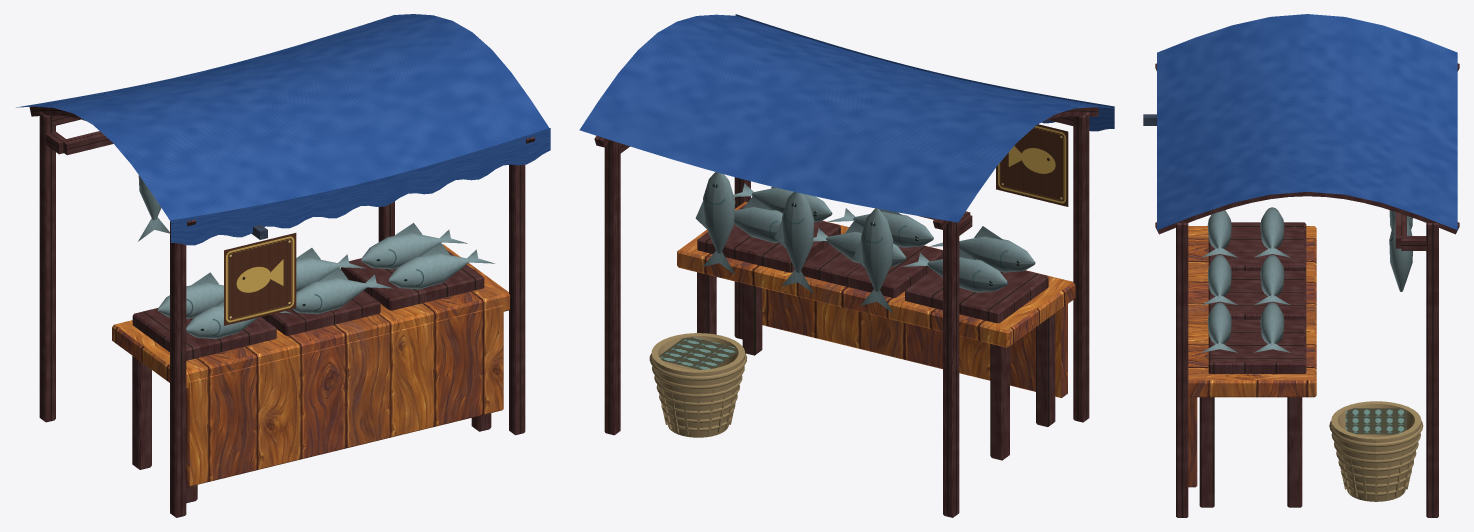
Rendered from Fish_Stall.fbx.
3 views of the same model, side by side, from view 1: azimuth 30°, elevation 25°; view 2: azimuth 150°, elevation 25°; view 3: azimuth 270°, elevation 25° (orthographic). The views are drawn at different scales.
Visible parts, largest first — view 1: Draped stitched awning.004, Counter front.004, Scalloped canvas hem.004, Counter top.004, Painted shop sign.004, Canopy post.017, Canopy post.016, Canopy post.018, Display tray.014, Display tray.012, Display tray.013, Counter leg.017 (+7 smaller); view 2: Draped stitched awning.004, Counter front.004, Counter top.004, Canopy post.016, Canopy post.017, Canopy post.019, Painted shop sign.004, Woven basket body.004, Display tray.012, Display tray.013, Display tray.014, Counter leg.017 (+15 smaller); view 3: Draped stitched awning.004, Counter top.004, Display tray.014, Woven basket body.004, Canopy post.018, Canopy post.019, Display tray.012, Display tray.013, Counter leg.018, Counter leg.019, Basket goods.001, Fish skin and gills.010 (+9 smaller).
Boxes of the visible parts, x1,y1,x2,y2 form: Draped stitched awning.004: (16, 14, 549, 221); Counter front.004: (186, 305, 503, 486); Scalloped canvas hem.004: (171, 128, 550, 245); Counter top.004: (112, 244, 509, 388); Painted shop sign.004: (224, 233, 296, 325); Canopy post.017: (39, 111, 55, 422); Canopy post.016: (170, 221, 186, 517); Canopy post.018: (509, 164, 525, 435); Display tray.014: (340, 250, 484, 310); Display tray.012: (132, 308, 276, 360); Display tray.013: (261, 279, 380, 335); Counter leg.017: (132, 356, 151, 469); Draped stitched awning.004: (579, 14, 1113, 222); Counter front.004: (762, 288, 1067, 397); Counter top.004: (677, 202, 1075, 347); Canopy post.016: (1073, 112, 1089, 422); Canopy post.017: (943, 221, 959, 517); Canopy post.019: (604, 140, 620, 435); Painted shop sign.004: (996, 124, 1068, 206); Woven basket body.004: (651, 333, 744, 437); Display tray.012: (905, 270, 1048, 323); Display tray.013: (801, 233, 942, 297); Display tray.014: (697, 204, 840, 272); Counter leg.017: (990, 344, 1009, 460); Draped stitched awning.004: (1157, 14, 1457, 230); Counter top.004: (1188, 226, 1316, 397); Display tray.014: (1208, 319, 1306, 373); Woven basket body.004: (1331, 401, 1421, 501); Canopy post.018: (1176, 223, 1188, 517); Canopy post.019: (1426, 223, 1438, 517); Display tray.012: (1208, 222, 1306, 272); Display tray.013: (1208, 271, 1306, 320); Counter leg.018: (1199, 397, 1214, 507); Counter leg.019: (1287, 397, 1302, 507); Basket goods.001: (1345, 408, 1406, 434); Fish skin and gills.010: (1389, 218, 1412, 291).
Bounding box in the file's own units: 336 × 294 × 253.
